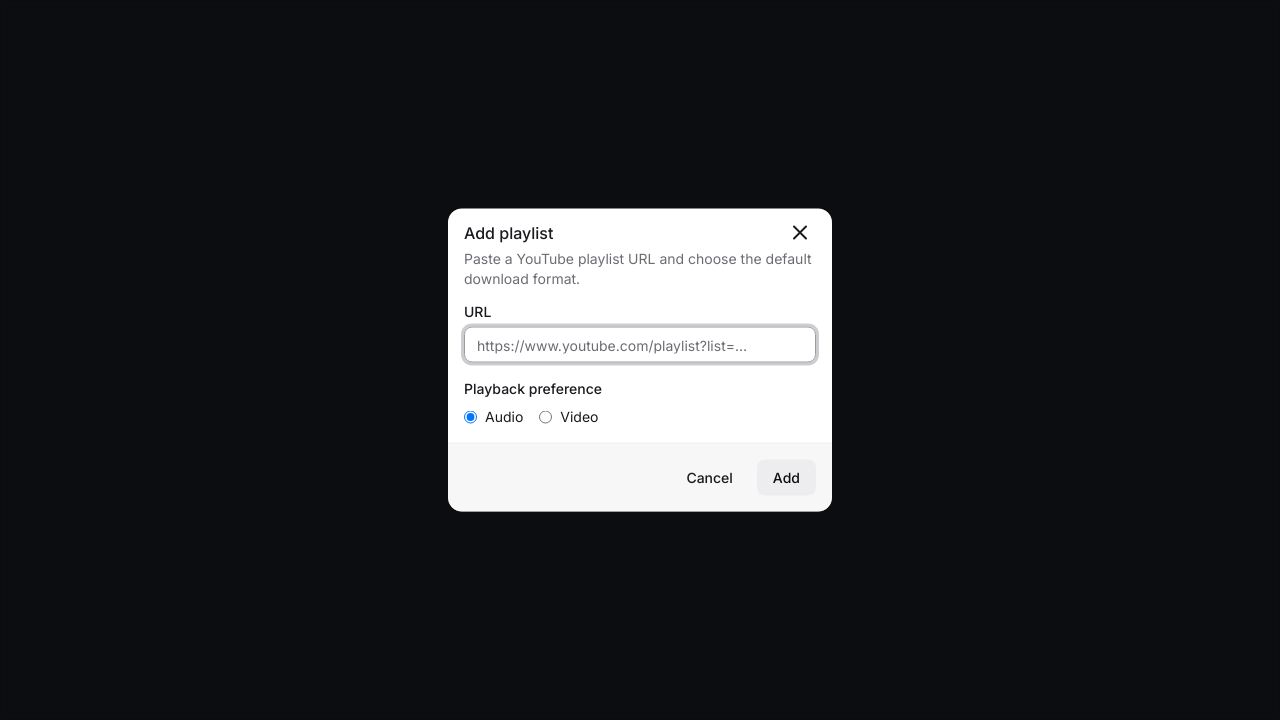
Test: AddPlaylistDialog › shows inline error for URL_NOT_PLAYLIST
The image size is (1280, 720).
Type "https://youtu.be/abc" into the field labelled "URL" at (640, 344), box x1=464 y1=326 x2=816 y2=362
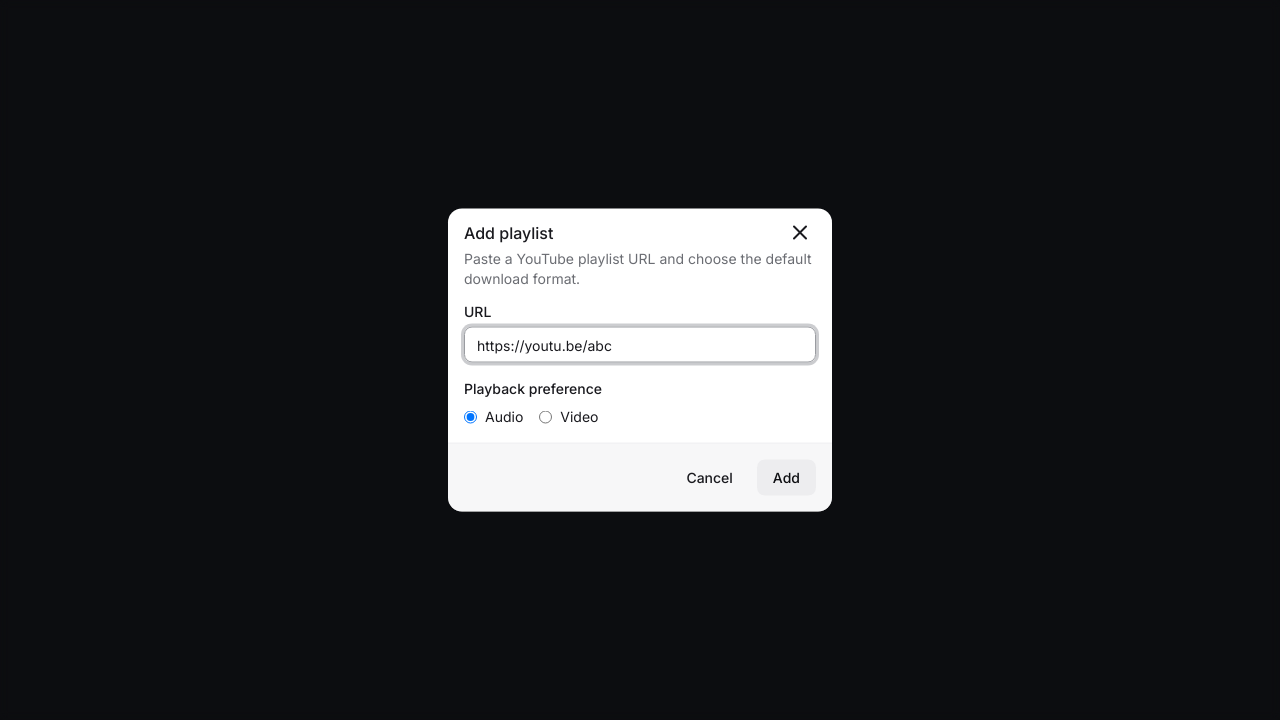
Click the button "Add" at (786, 478), box x1=757 y1=460 x2=816 y2=496
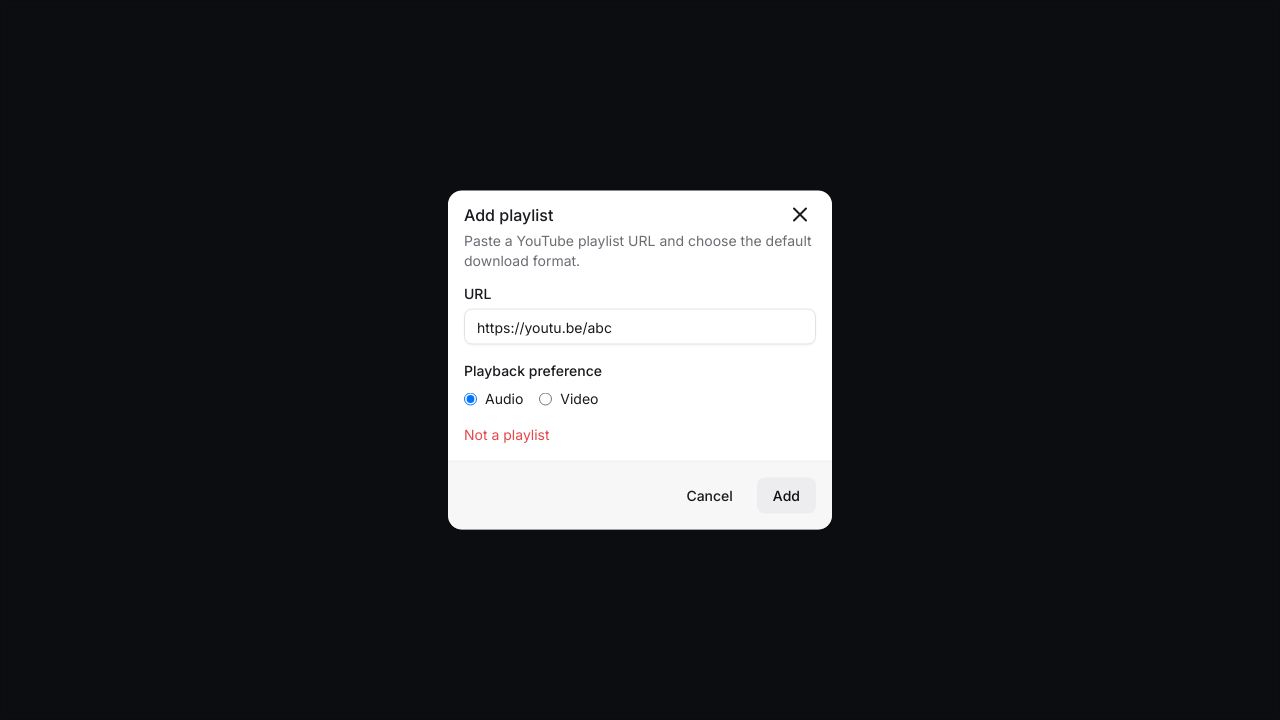
Check: the text "Not a playlist" is shown, box x1=464 y1=426 x2=550 y2=442
